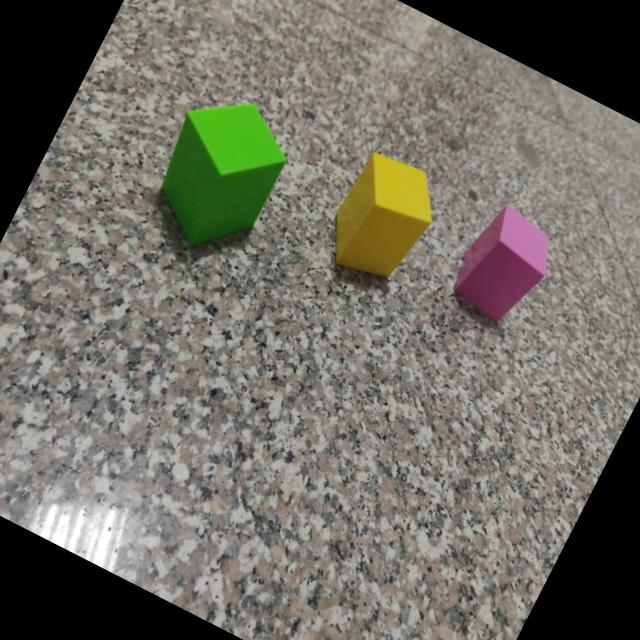green: (160, 105, 286, 248)
pink: (453, 206, 549, 326)
yellow: (333, 154, 433, 281)
